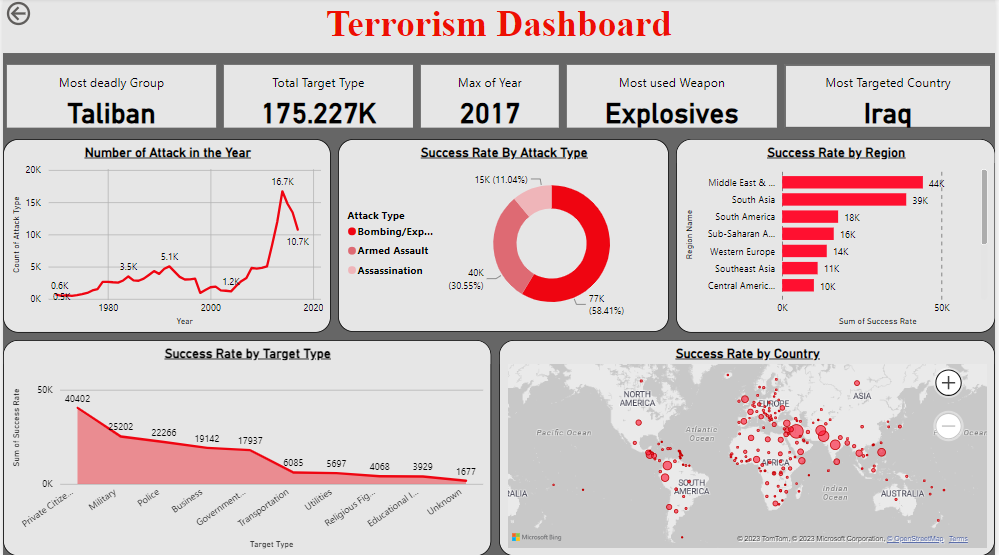

The page's visual inventory and layout, read from the dashboard file:
{"tool":"powerbi","page":{"name":"Page 1","canvas":[1280,720],"ordinal":0},"visuals":[{"type":"textbox","box":[0,0,1279.8,70.9],"z":0},{"type":"donutChart","title":"Success Rate By Attack Type","fields":{"Category":["Terrorism.Attack Type"],"Y":["Sum(Terrorism.Success Rate)"]},"box":[432.3,181.9,427.1,249],"z":1000},{"type":"lineChart","title":"Number of Attack in the Year","fields":{"Y":["CountNonNull(Terrorism.Attack Type)"],"Category":["Terrorism.Year"]},"box":[0,181.4,423.8,250.9],"z":2000},{"type":"actionButton","box":[0,0,100,40],"z":3000},{"type":"map","title":"Success Rate by Country","fields":{"Category":["Terrorism.Country Name"],"Size":["Sum(Terrorism.Success Rate)"]},"box":[640,441.3,640,278.7],"z":4000},{"type":"areaChart","title":"Success Rate by Target Type","fields":{"Y":["Sum(Terrorism.Success Rate)"],"Category":["Terrorism.Target Type"]},"box":[0,441.3,629.7,278.7],"z":5000},{"type":"barChart","title":"Success Rate by Region","fields":{"Category":["Terrorism.Region Name"],"Y":["Sum(Terrorism.Success Rate)"]},"box":[868.4,181.9,411.6,250.3],"z":6000},{"type":"cardVisual","fields":{"Data":["CountNonNull(Terrorism.Target Type)"]},"box":[280,81.3,254.2,91.6],"z":7000},{"type":"cardVisual","fields":{"Data":["Min(Terrorism.Group Name)"]},"box":[0,81.3,280,91.6],"z":8000},{"type":"cardVisual","fields":{"Data":["Min(Terrorism.Weapon Type)"]},"box":[722.6,81.3,281.3,91.6],"z":9000},{"type":"cardVisual","fields":{"Data":["Min(Terrorism.Country Name)"]},"box":[1003.9,81.3,276.1,91.6],"z":10000},{"type":"cardVisual","fields":{"Data":["Max(Terrorism.Year)"]},"box":[534.2,81.3,188.4,91.6],"z":11000}]}

Visuals, with their boxes in screenshot pixels (x1, y1, x2, y2), scaled from the page's 1280x720 canvas onto the 999x555 screenshot:
textbox: <region>0, 0, 998, 55</region>
"Success Rate By Attack Type" donutChart: <region>337, 140, 671, 332</region>
"Number of Attack in the Year" lineChart: <region>0, 140, 331, 333</region>
actionButton: <region>0, 0, 78, 31</region>
"Success Rate by Country" map: <region>500, 340, 998, 554</region>
"Success Rate by Target Type" areaChart: <region>0, 340, 491, 554</region>
"Success Rate by Region" barChart: <region>678, 140, 998, 333</region>
cardVisual - CountNonNull(Terrorism.Target Type): <region>219, 63, 417, 133</region>
cardVisual - Min(Terrorism.Group Name): <region>0, 63, 219, 133</region>
cardVisual - Min(Terrorism.Weapon Type): <region>564, 63, 784, 133</region>
cardVisual - Min(Terrorism.Country Name): <region>784, 63, 998, 133</region>
cardVisual - Max(Terrorism.Year): <region>417, 63, 564, 133</region>
